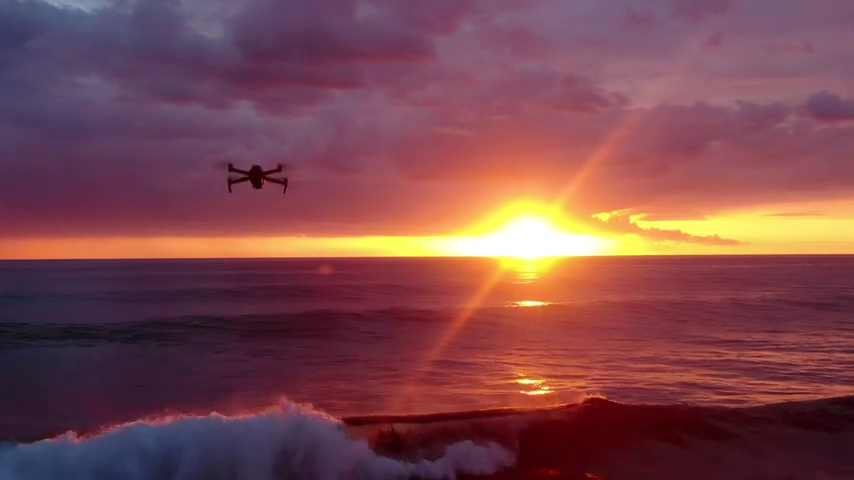drone: (225, 159, 289, 198)
